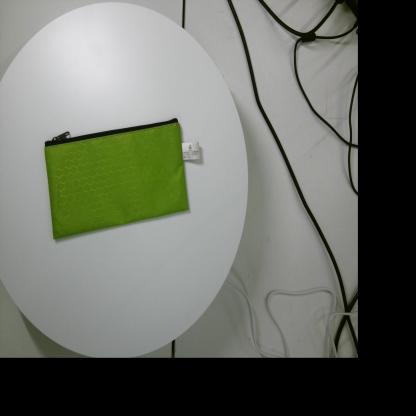Stationery: (44, 118, 200, 239)
